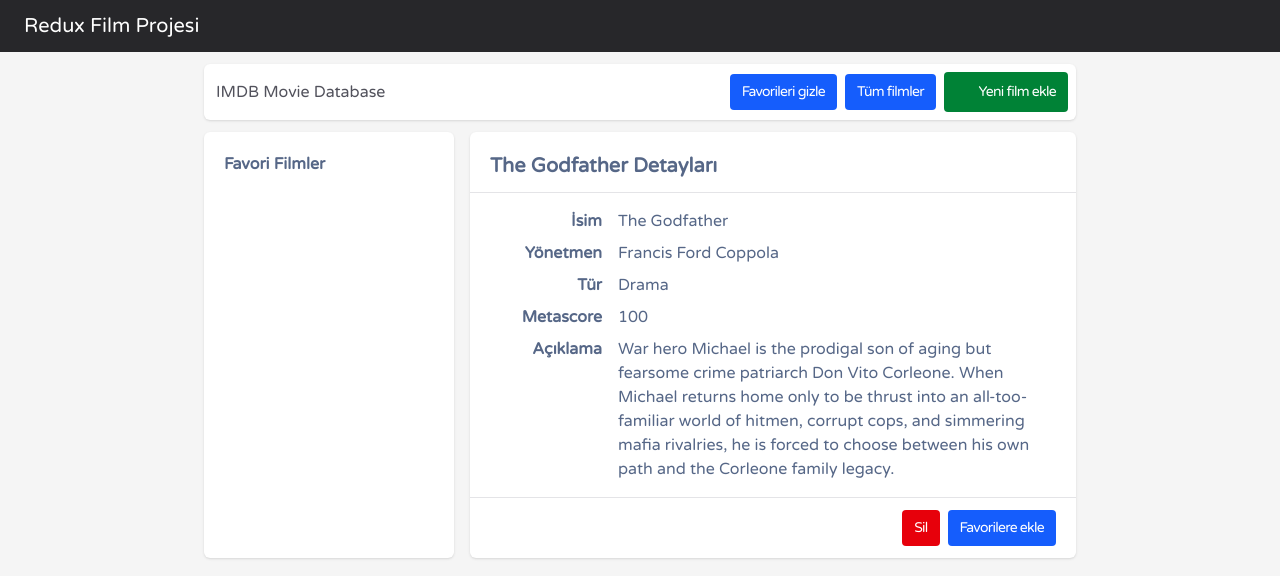
it: Film detayları sayfasında Favorilere Ekle butonu filmi favori listesine 2. kez eklemiyor mu?
The image size is (1280, 576).
Step 1. Click the button "Favorilere ekle" → (1002, 528), box [948, 510, 1056, 546]
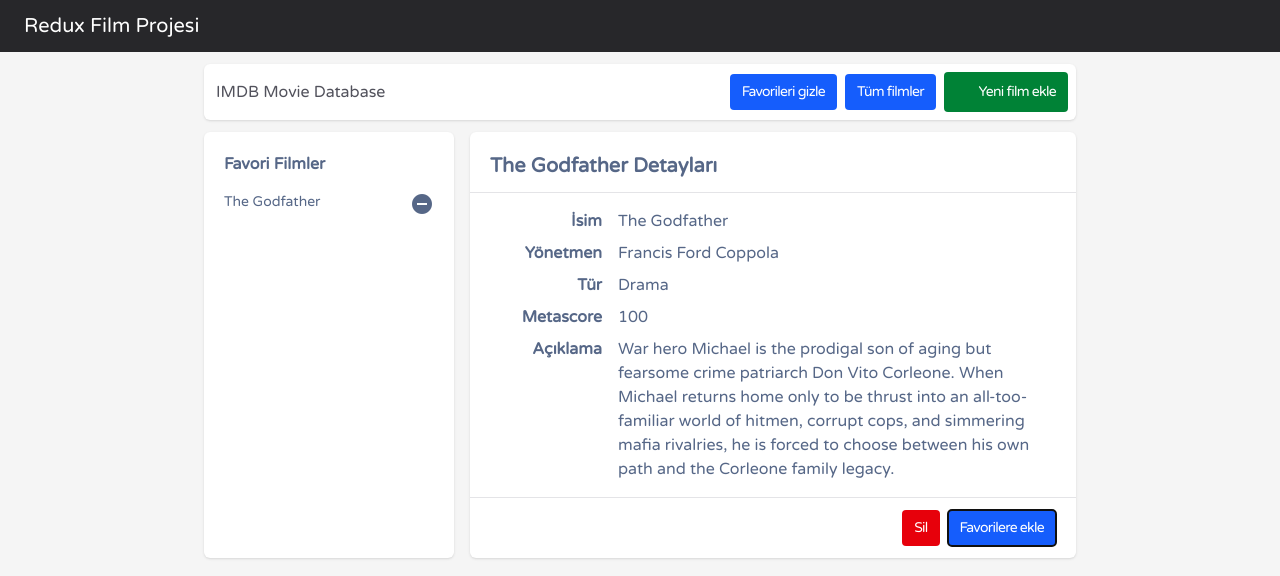
Result: the number of links with test id "favorite-movie" is 1 at [224, 188, 434, 220]
